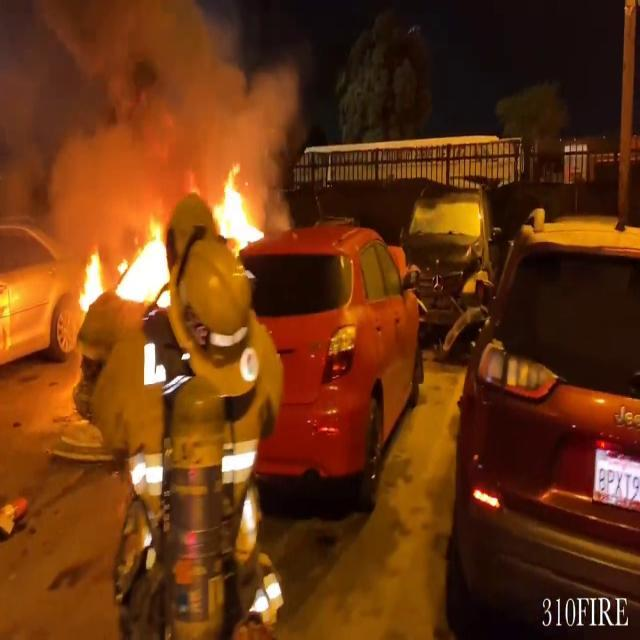Fire: (73, 214, 180, 310), (205, 162, 272, 256)
Smoke: (0, 0, 316, 204)
